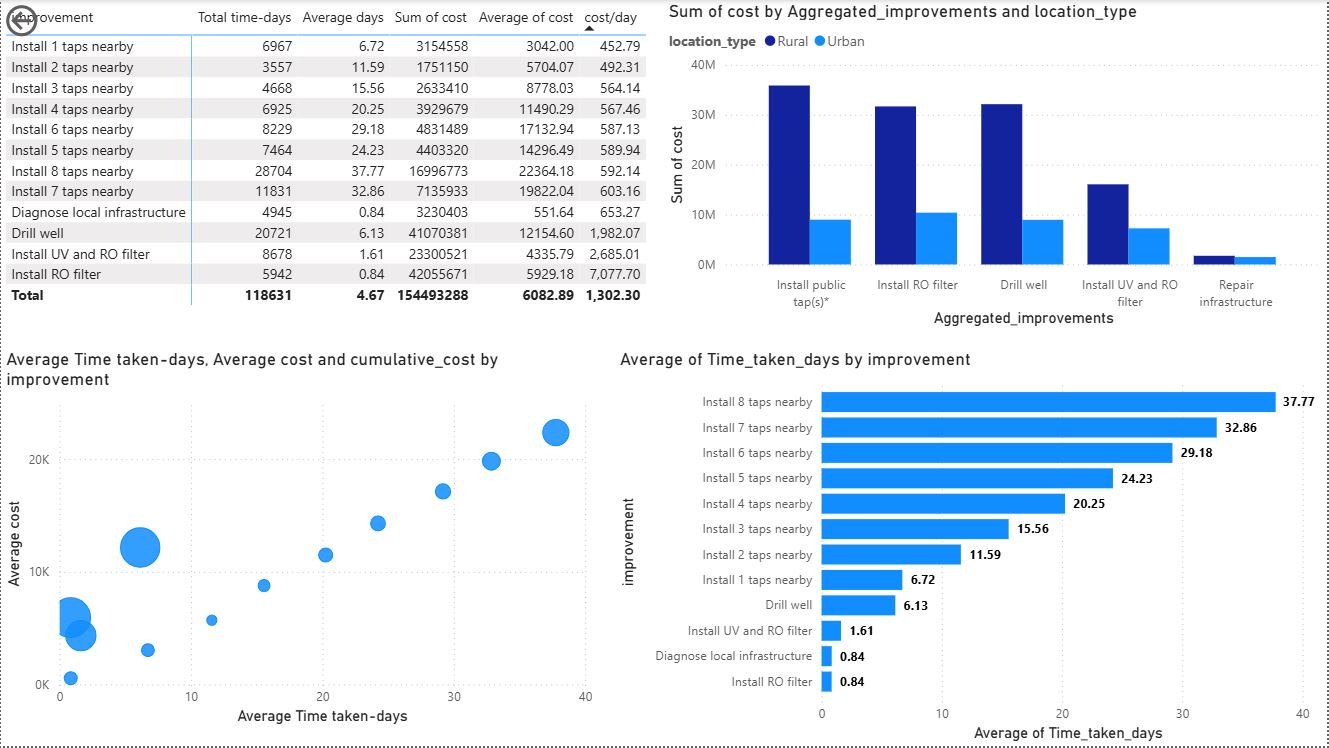

What the dashboard file says about the page in this screenshot:
{"tool":"powerbi","page":{"name":"KEY INDICATORS VISUAL","canvas":[1280,720],"ordinal":2},"visuals":[{"type":"pivotTable","fields":{"Rows":["project_progress.improvement"],"Values":["Sum(project_progress.Time_taken_days)","Avg(project_progress.Time_taken_days)","Sum(project_progress.cost)","Avg(project_progress.cost)","select"]},"box":[0,0,640,320],"z":0},{"type":"scatterChart","fields":{"Category":["project_progress.improvement"],"X":["Avg(project_progress.Time_taken_days)"],"Y":["Avg(project_progress.cost)"],"Size":["project_progress.cumulative_cost"]},"box":[0,336,576,368],"z":1000},{"type":"actionButton","box":[0,0,100,40],"z":2000},{"type":"clusteredColumnChart","fields":{"Category":["project_progress.Aggregated_improvements"],"Series":["location.location_type"],"Y":["Sum(project_progress.cost)"]},"box":[640,0,640,320],"z":3000},{"type":"barChart","fields":{"Category":["project_progress.improvement"],"Y":["Avg(project_progress.Time_taken_days)"]},"box":[592,336,688,384],"z":4000}]}

Visuals, with their boxes in screenshot pixels (x1, y1, x2, y2), scaled from the page's 1280x720 canvas onto the 1329x748 screenshot:
pivotTable - project_progress.improvement x Sum(project_progress.Time_taken_days): (left=0, top=0, right=664, bottom=332)
scatterChart - project_progress.improvement x Avg(project_progress.Time_taken_days): (left=0, top=349, right=598, bottom=731)
actionButton: (left=0, top=0, right=104, bottom=42)
clusteredColumnChart - project_progress.Aggregated_improvements x location.location_type: (left=664, top=0, right=1328, bottom=332)
barChart - project_progress.improvement x Avg(project_progress.Time_taken_days): (left=615, top=349, right=1328, bottom=747)
